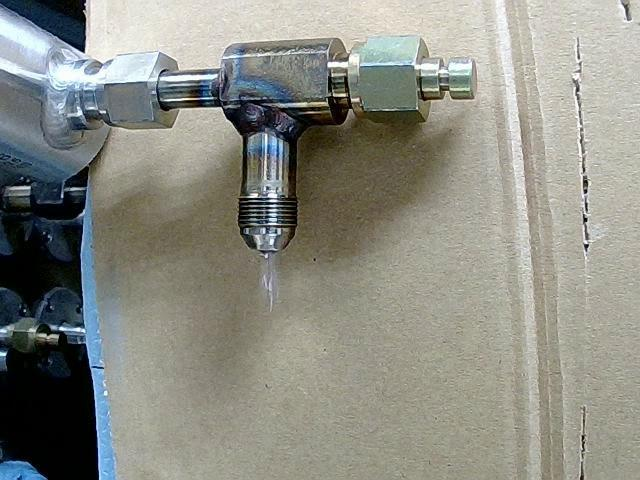water drop: (258, 250, 281, 315)
